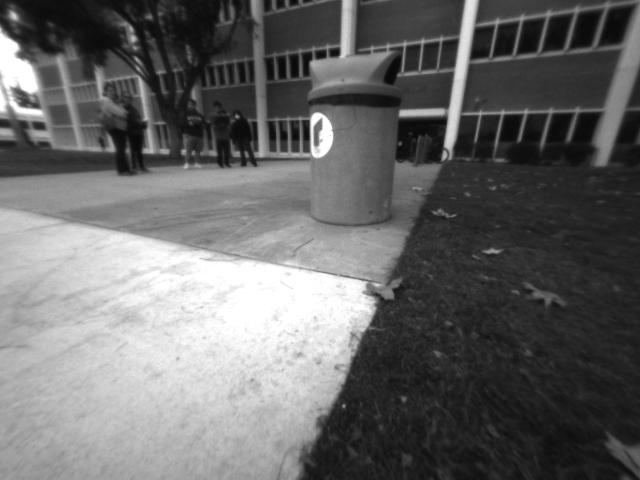trashcan: (302, 48, 406, 228)
